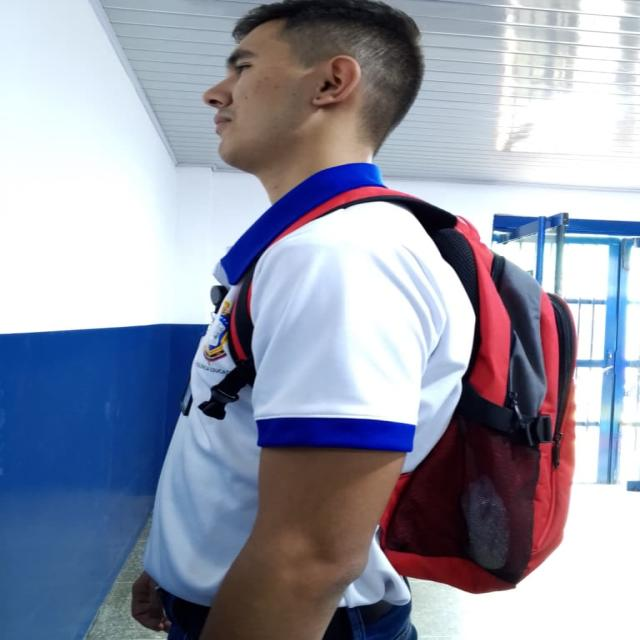uniforme_superior: (142, 162, 476, 610)
